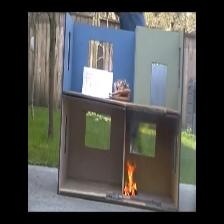fire: (123, 159, 139, 202)
